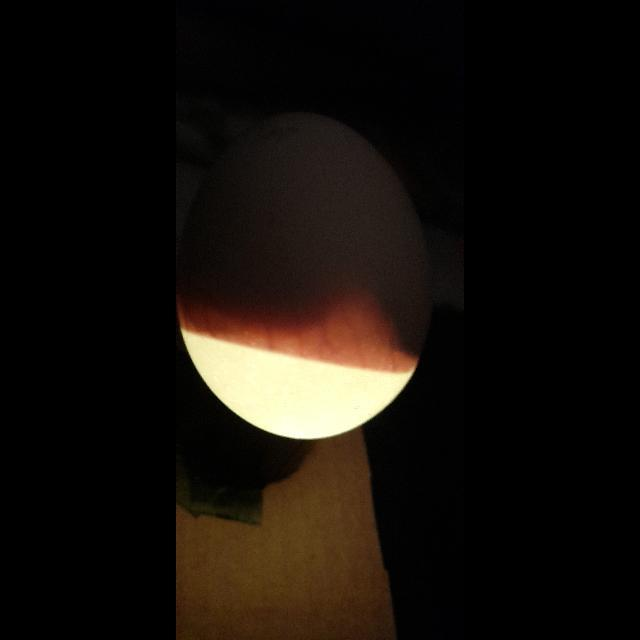Fertile: (183, 110, 433, 446)
